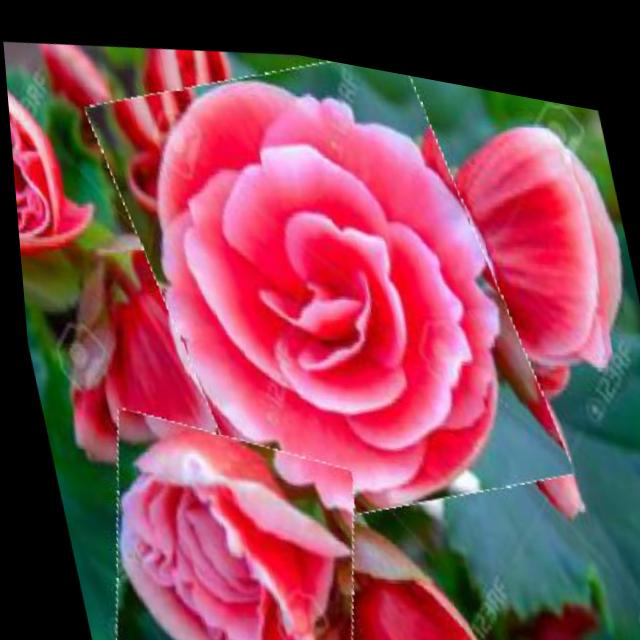Flower: (88, 13, 564, 561), (71, 380, 380, 640)
